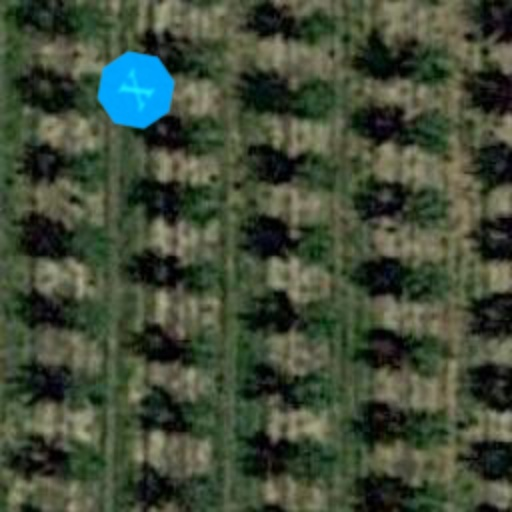octagon: (80, 34, 192, 146)
